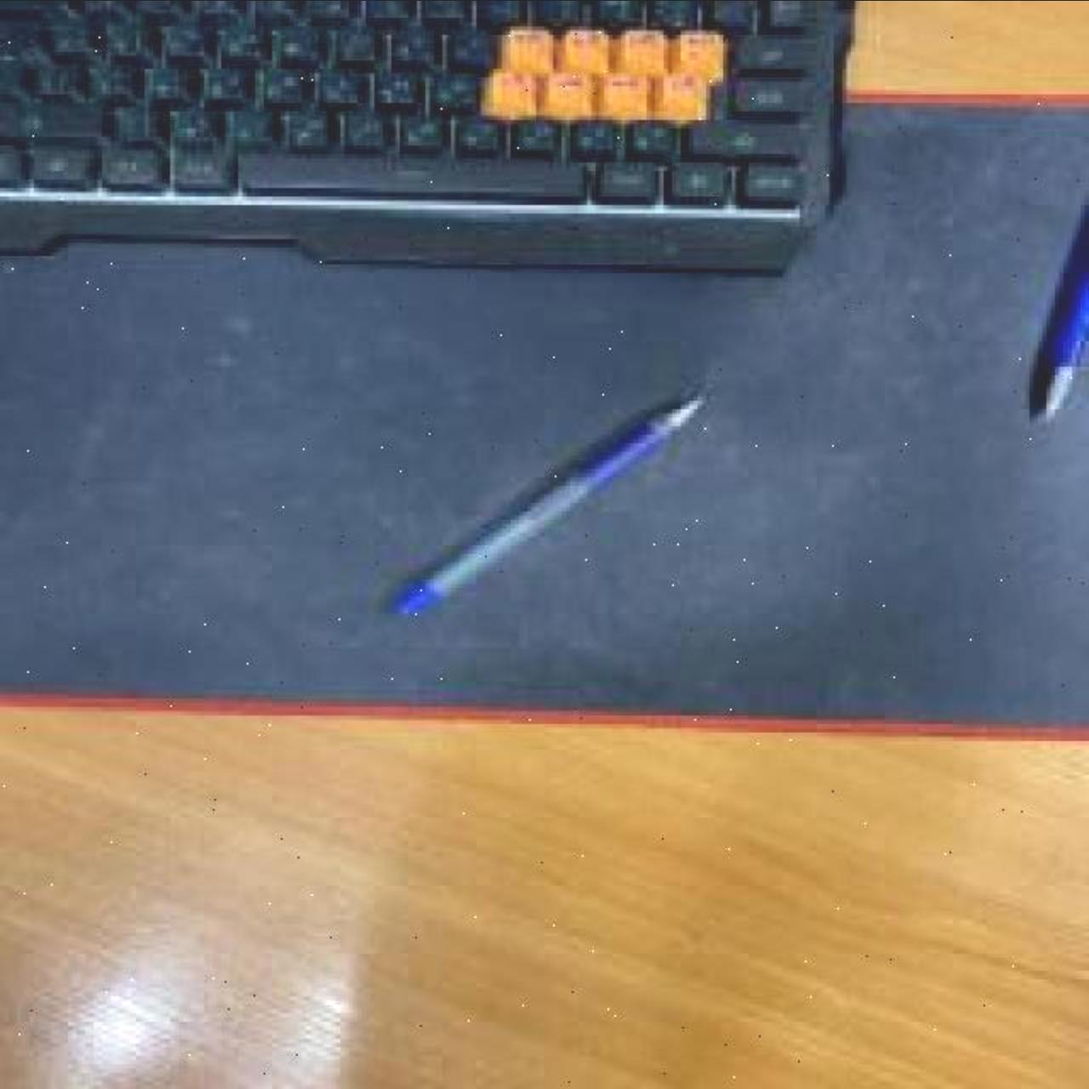pen: (391, 395, 706, 621)
